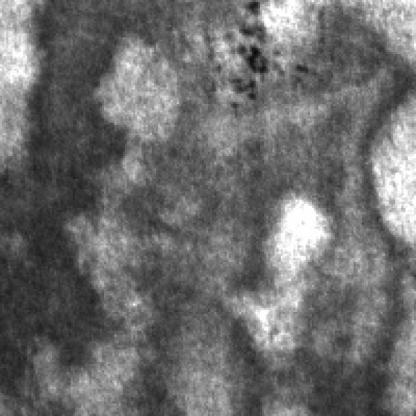inclusion: (224, 27, 304, 108)
patches: (125, 21, 414, 416), (0, 2, 121, 416)
